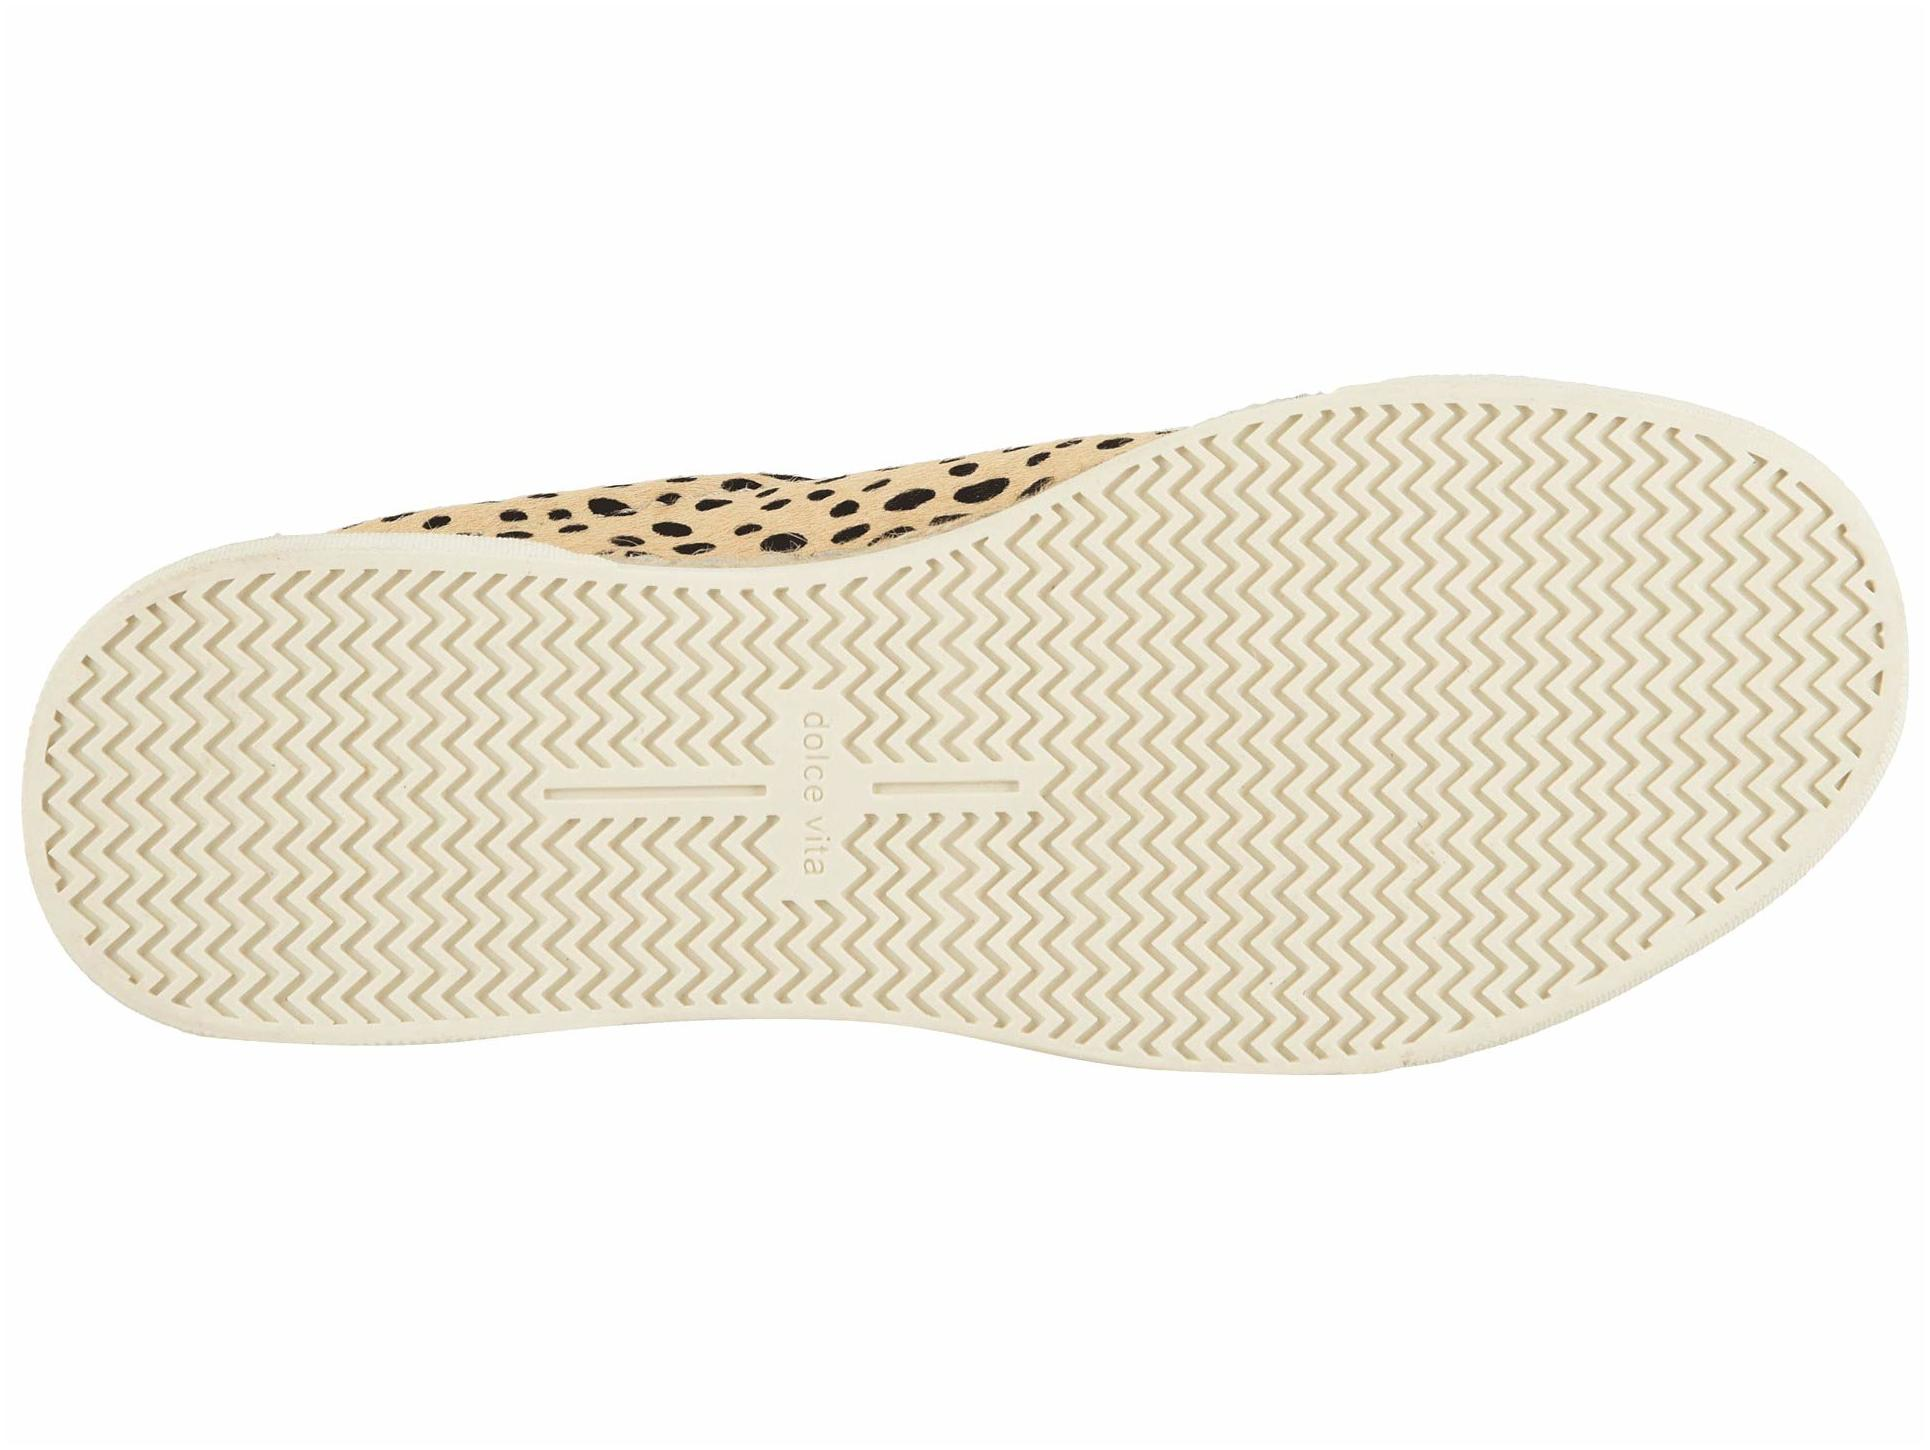chevron: (1182, 493, 1670, 902), (165, 603, 498, 976), (631, 893, 1091, 988), (564, 605, 1103, 678)
circle: (774, 705, 855, 877)
quad: (774, 705, 855, 877), (532, 771, 780, 813), (856, 774, 1031, 801)
text: (774, 705, 855, 877)
